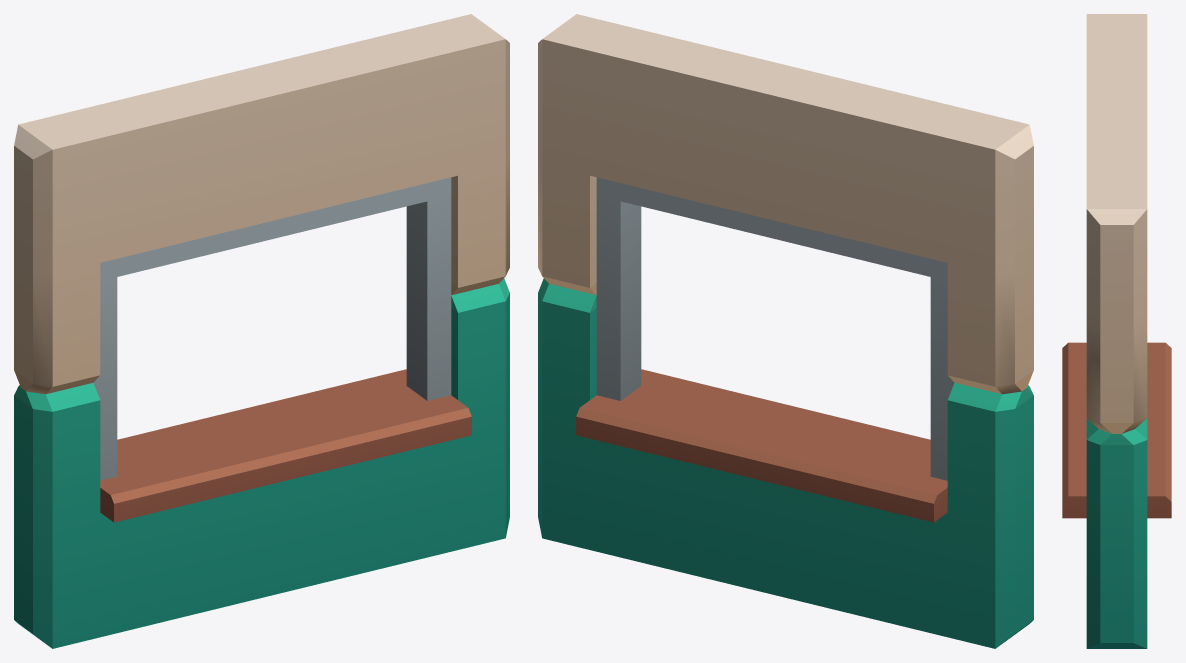
Rendered from overwindow.glb.
The picture shows the model from 3 angles, left to right: view 1: azimuth 30°, elevation 25°; view 2: azimuth 150°, elevation 25°; view 3: azimuth 270°, elevation 25°; orthographic projection. The views are drawn at different scales.
Visible parts, largest first — view 1: wall_orderwindow; view 2: wall_orderwindow; view 3: wall_orderwindow.
Part boxes in pixels (x1,y1,x2,y2): wall_orderwindow: (14, 14, 509, 648); wall_orderwindow: (538, 14, 1033, 648); wall_orderwindow: (1062, 14, 1171, 648).
Bounding box in the file's own units: 4 × 4 × 0.9.
1 material, 1 textured.
